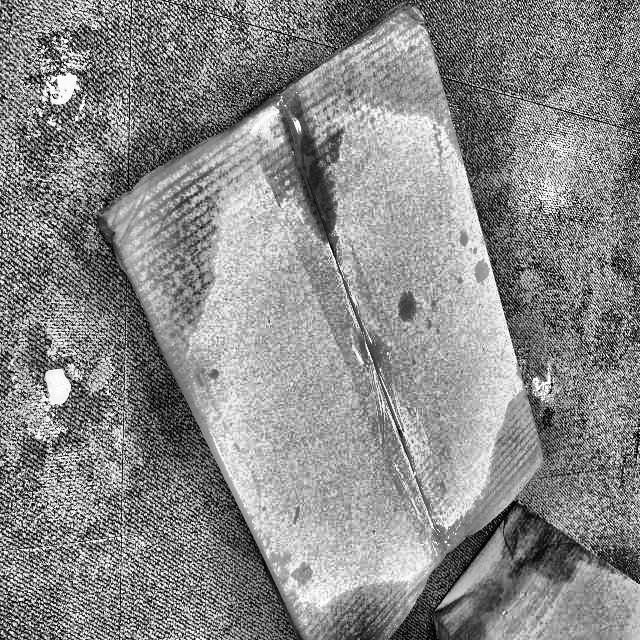box: (92, 11, 553, 640)
wet: (127, 126, 234, 341), (301, 14, 449, 136), (475, 376, 545, 516), (278, 576, 406, 640)
